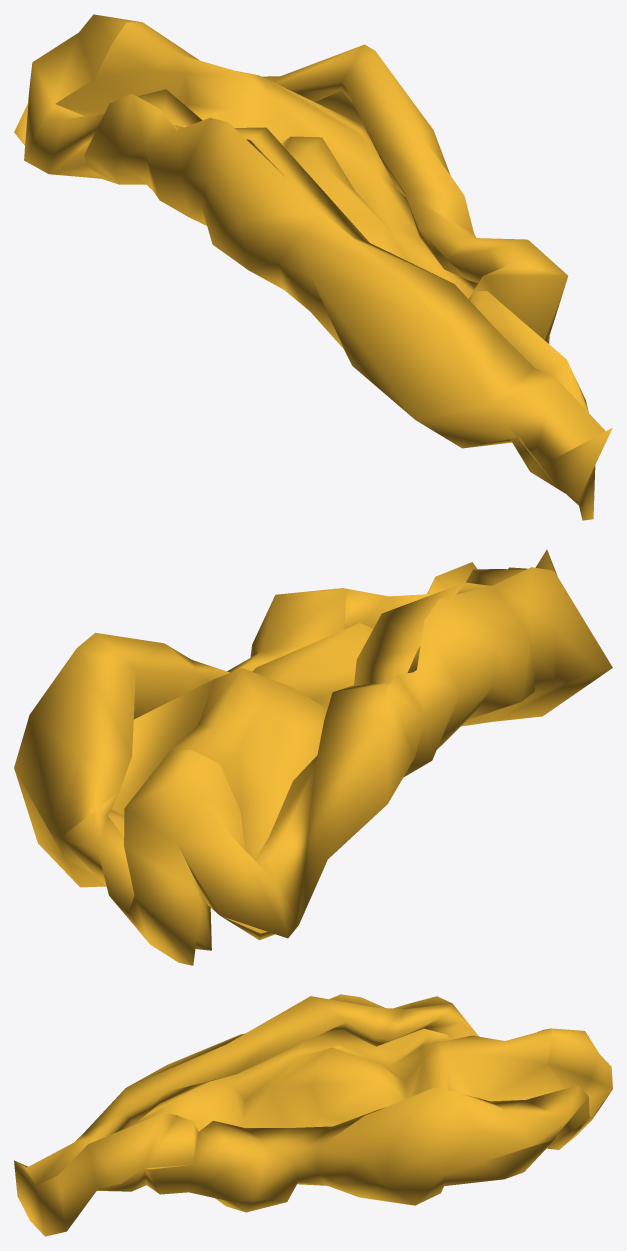
File: nervoso-lateral-occipitotemporal-gyrus-l.glb
3 renders of one model, top to bottom at view 1: azimuth 30°, elevation 25°; view 2: azimuth 150°, elevation 25°; view 3: azimuth 270°, elevation 25°, orthographic. The views are drawn at different scales.
Parts seen in each view (by area): view 1: Lateral occipitotemporal gyrus.l; view 2: Lateral occipitotemporal gyrus.l; view 3: Lateral occipitotemporal gyrus.l.
Part boxes in pixels (box(x1,y1,x2,y2)): Lateral occipitotemporal gyrus.l: box(14, 14, 612, 520); Lateral occipitotemporal gyrus.l: box(14, 549, 612, 965); Lateral occipitotemporal gyrus.l: box(14, 994, 612, 1236).
Bounding box in the file's own units: 0.0258 × 0.022 × 0.0623.
